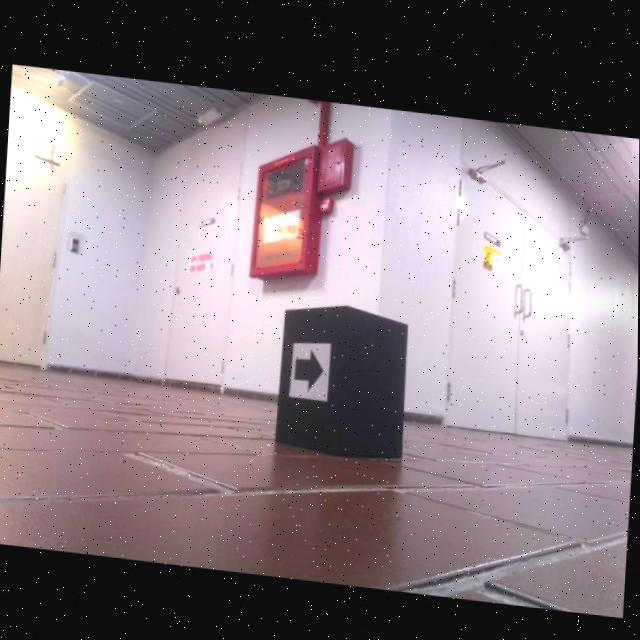RIGHT: (296, 346, 325, 387)
